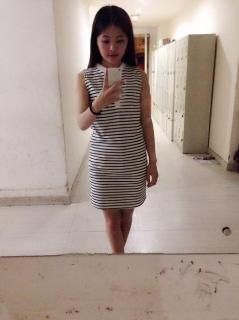vest: (83, 61, 148, 209)
